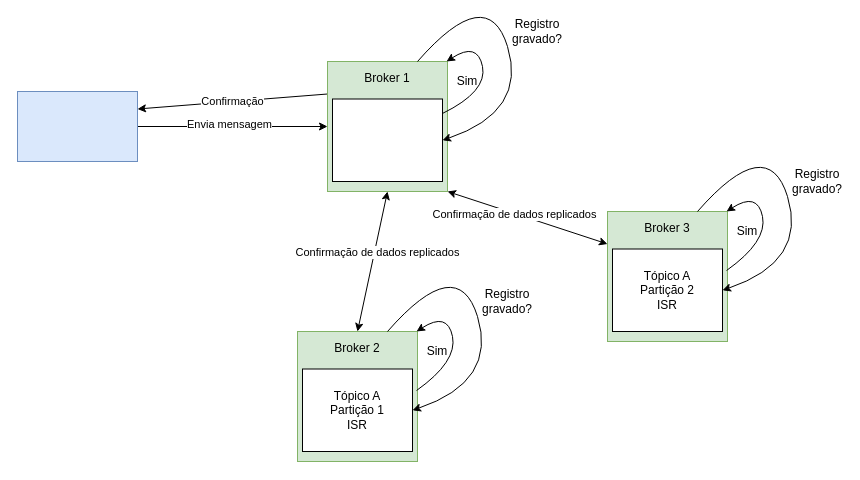
The diagram is 860 pixels wide and 480 high, and some of its shapes have lost their labels. The shapes that lost their labels are listed below. From the top down, each one's centre as x and y in pixels, then its label:
At [77,126]: "Produtor".
At [387,140]: "Tópico A Partição 0 Líder".
